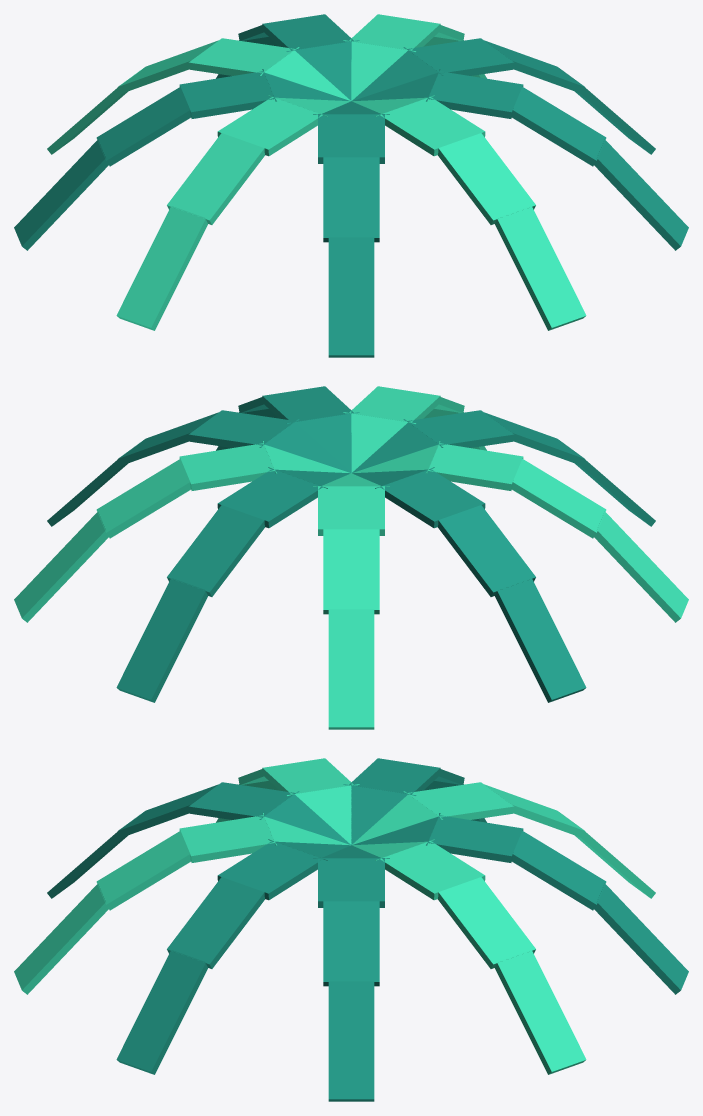
File: Alien_Fern_Glow.obj
The picture shows the model from 3 angles, top to bottom: view 1: azimuth 30°, elevation 25°; view 2: azimuth 150°, elevation 25°; view 3: azimuth 270°, elevation 25°; orthographic projection.
Parts seen in each view (by area): view 1: Alien_Fern_Glow; view 2: Alien_Fern_Glow; view 3: Alien_Fern_Glow.
Boxes of the visible parts, bbox=[...] form: Alien_Fern_Glow: bbox=[14, 14, 688, 357]; Alien_Fern_Glow: bbox=[14, 386, 688, 729]; Alien_Fern_Glow: bbox=[14, 758, 688, 1101].
Size of the model in its own units: 2.58 by 0.5916 by 2.62.
Materials: 1 (1 with a texture image).
